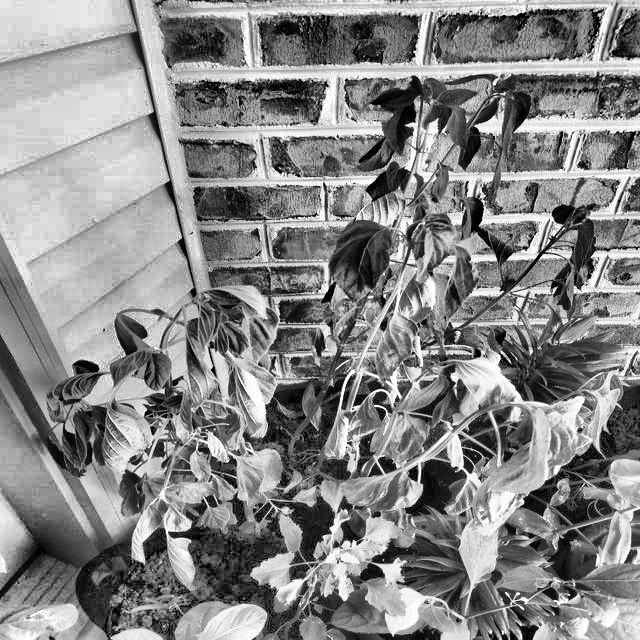plants: (35, 70, 639, 640), (309, 330, 639, 639), (41, 282, 282, 570)
